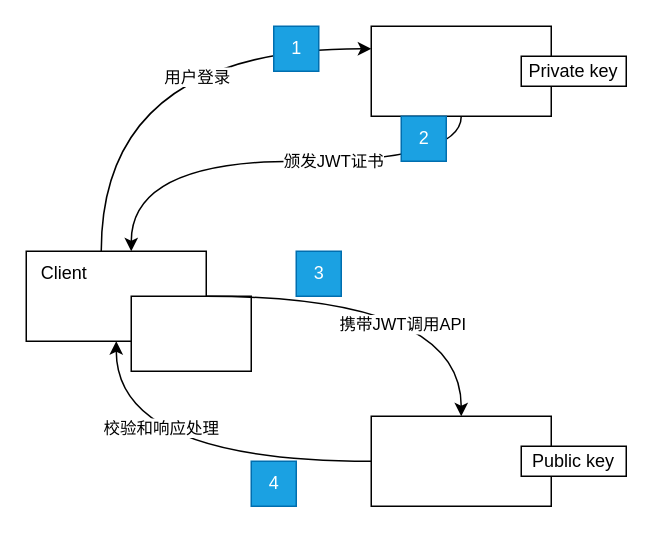
Some shapes in this 653 by 533 pixel diagram are drawn without their labels. The box of each missing label's shape, as (x1, y1, x2, y2) in pixels:
Aurh Server: (370, 25, 551, 116)
Resource Server: (370, 415, 551, 506)
本地JWT存储: (130, 295, 251, 371)
